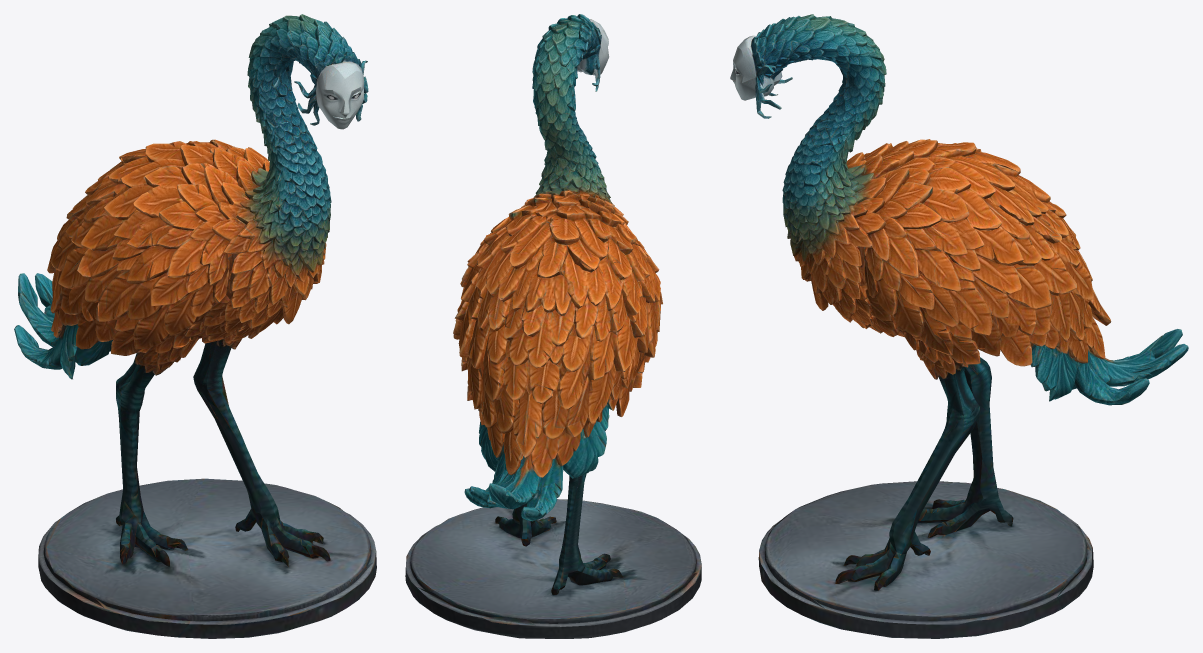
File: admirer.glb
3 views of the same model, side by side, from view 1: azimuth 30°, elevation 25°; view 2: azimuth 150°, elevation 25°; view 3: azimuth 270°, elevation 25° (orthographic). The views are drawn at different scales.
Visible parts, largest first — view 1: output_unwrapped; view 2: output_unwrapped; view 3: output_unwrapped.
Part boxes in pixels (x1,y1,x2,y2): output_unwrapped: [14, 14, 376, 638]; output_unwrapped: [405, 14, 701, 638]; output_unwrapped: [730, 14, 1188, 638].
Size of the model in its own units: 1 by 1.9 by 1.38.
1 material, 1 textured.
